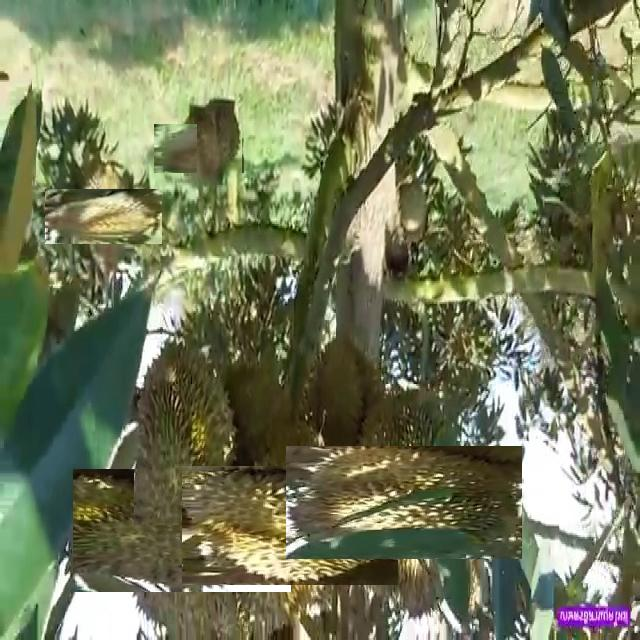durian: (316, 416, 492, 590), (96, 445, 267, 616), (206, 442, 374, 610), (134, 331, 240, 525), (61, 173, 148, 260), (164, 114, 234, 184), (197, 88, 242, 188)
